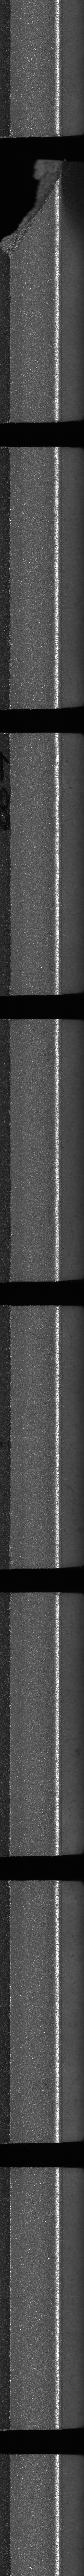Chip: (0, 156, 68, 264)
